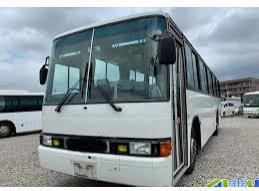bus: (35, 10, 224, 185)
